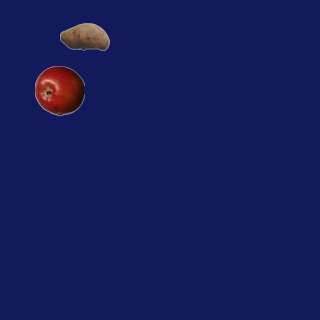Apple Braeburn: (34, 65, 84, 115)
Potato Sweet: (59, 11, 109, 61)
